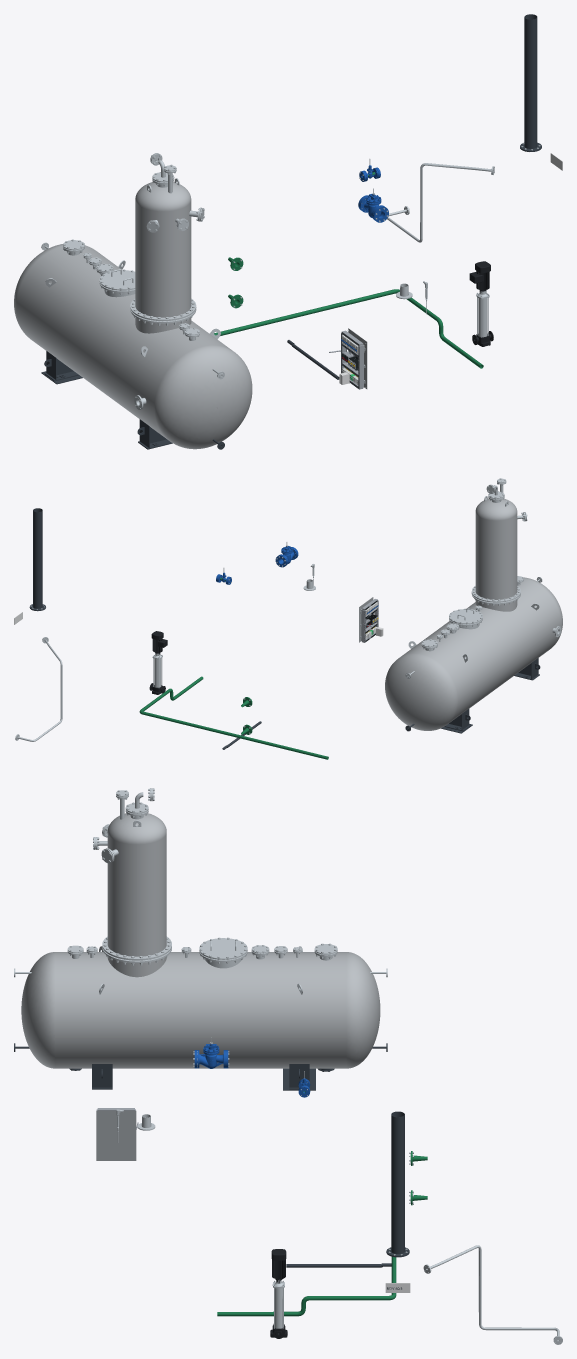
3 renders of one model, top to bottom at view 1: azimuth 30°, elevation 25°; view 2: azimuth 150°, elevation 25°; view 3: azimuth 270°, elevation 25°, orthographic. The views are drawn at different scales.
Parts seen in each view (by area): view 1: deaerator CAD solid 56, deaerator CAD solid 257, bdv_vent / dark, suction_common / green, cabinet_interior / cabinet_interior_0.npz, trap_gap_to_bdv / steel, deaerator CAD solid 408; view 2: deaerator CAD solid 56, deaerator CAD solid 257, suction_common / green, bdv_vent / dark, cabinet_interior / cabinet_interior_0.npz, trap_gap_to_bdv / steel, deaerator CAD solid 408; view 3: deaerator CAD solid 56, deaerator CAD solid 257, cabinet_interior / cabinet_interior_0.npz, bdv_vent / dark, suction_common / green, trap_gap_to_bdv / steel, deaerator CAD solid 408.
Boxes of the visible parts, x1,y1,x2,y2 form: deaerator CAD solid 56: (14,244,252,449); deaerator CAD solid 257: (135,182,191,317); bdv_vent / dark: (520,14,541,151); suction_common / green: (214,289,483,368); cabinet_interior / cabinet_interior_0.npz: (329,328,367,389); trap_gap_to_bdv / steel: (387,163,494,242); deaerator CAD solid 408: (99,270,135,290); deaerator CAD solid 56: (385,577,562,730); deaerator CAD solid 257: (475,498,517,599); suction_common / green: (139,676,328,759); bdv_vent / dark: (29,508,45,611); cabinet_interior / cabinet_interior_0.npz: (359,597,378,642); trap_gap_to_bdv / steel: (15,637,62,741); deaerator CAD solid 408: (449,609,482,624); deaerator CAD solid 56: (21,952,380,1068); deaerator CAD solid 257: (107,813,166,956); cabinet_interior / cabinet_interior_0.npz: (96,1108,138,1160); bdv_vent / dark: (386,1111,409,1257); suction_common / green: (217,1256,396,1316); trap_gap_to_bdv / steel: (423,1245,562,1344); deaerator CAD solid 408: (199,938,247,959).
Bounding box in the file's own units: 8.5 × 4.73 × 6.68.
